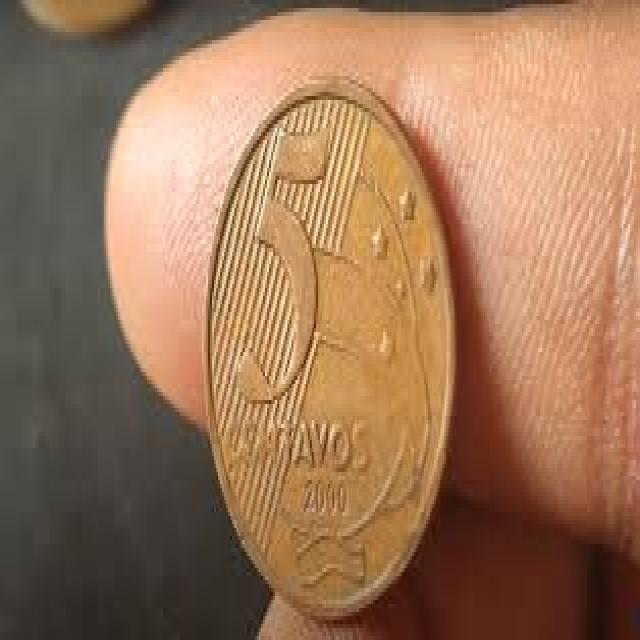5 cent: (210, 87, 452, 633)
